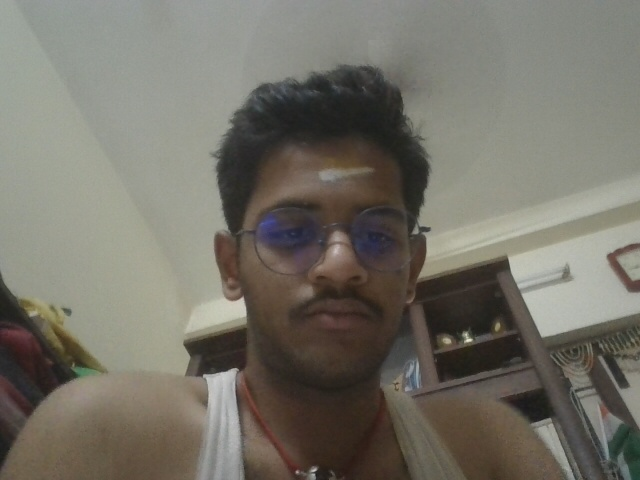real: (220, 141, 450, 371)
